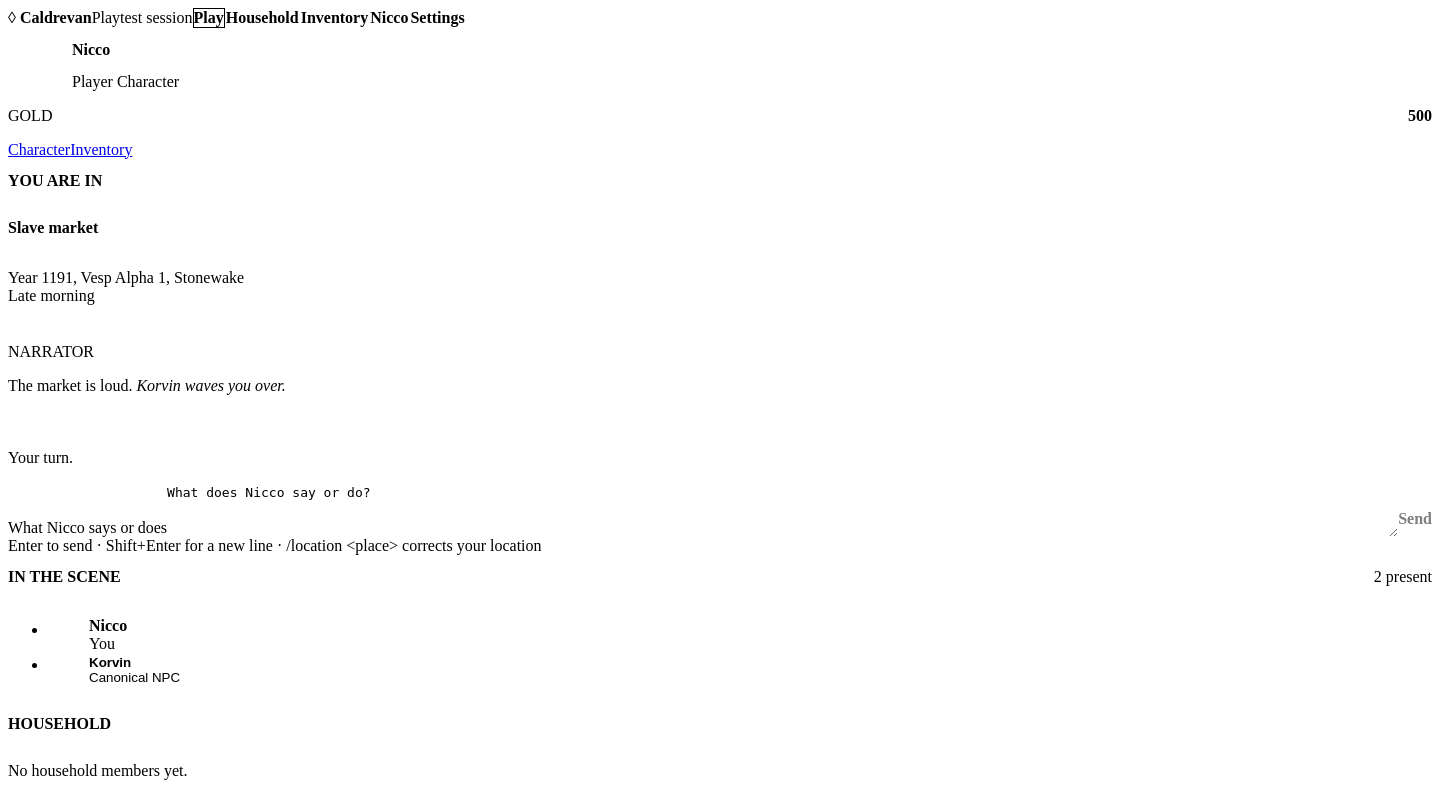
Test case: PlayScreen › recovers from a stale revision: applies the fresh state, explains, and keeps the draft for a resend
Type "Deal." into the text box labelled "What Nicco says or does" at (783, 511), box [167, 485, 1398, 537]
Then press Enter
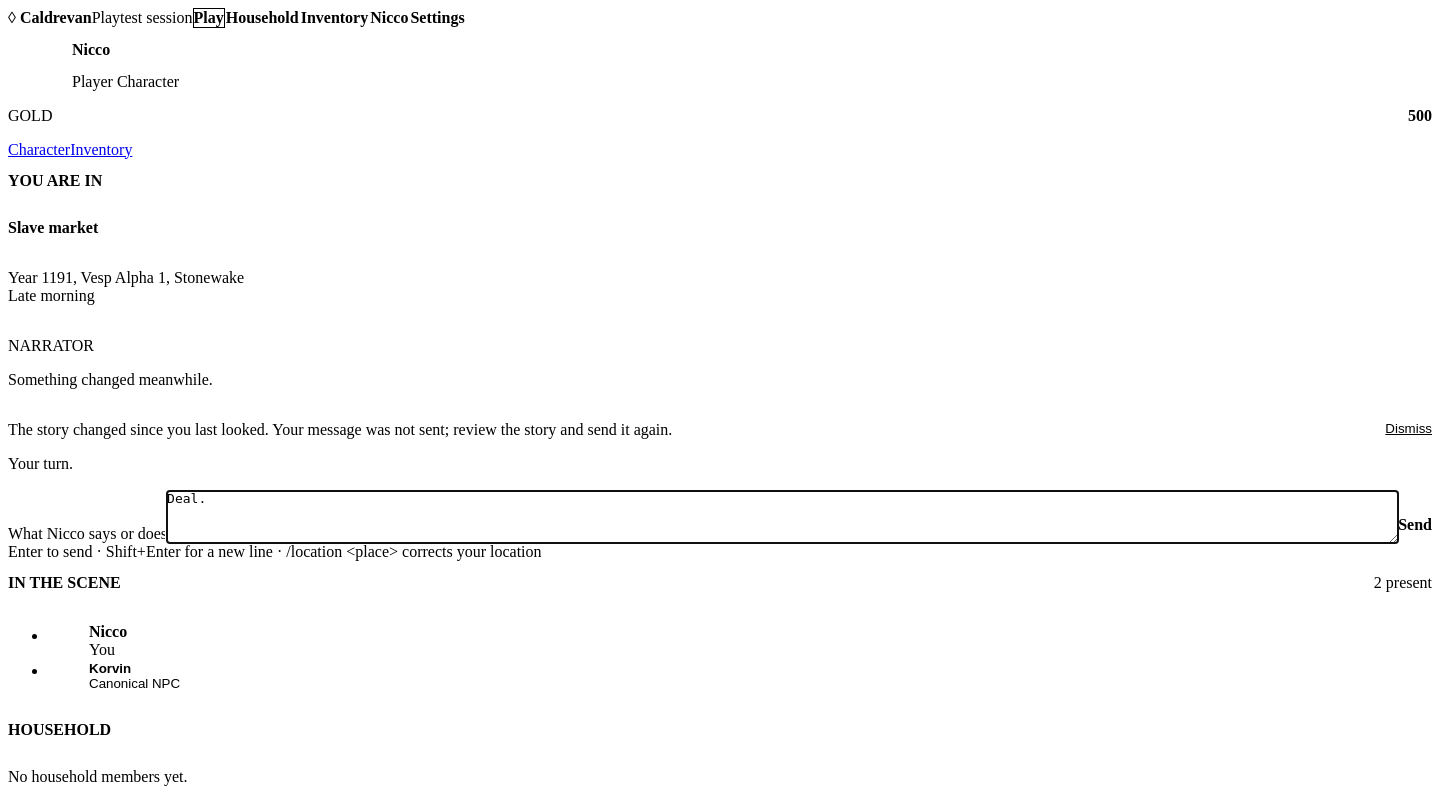
Result: the text "The story changed since you last looked" is shown at [8, 421, 672, 438]
Result: the text "Something changed meanwhile." is shown at [8, 371, 213, 388]
